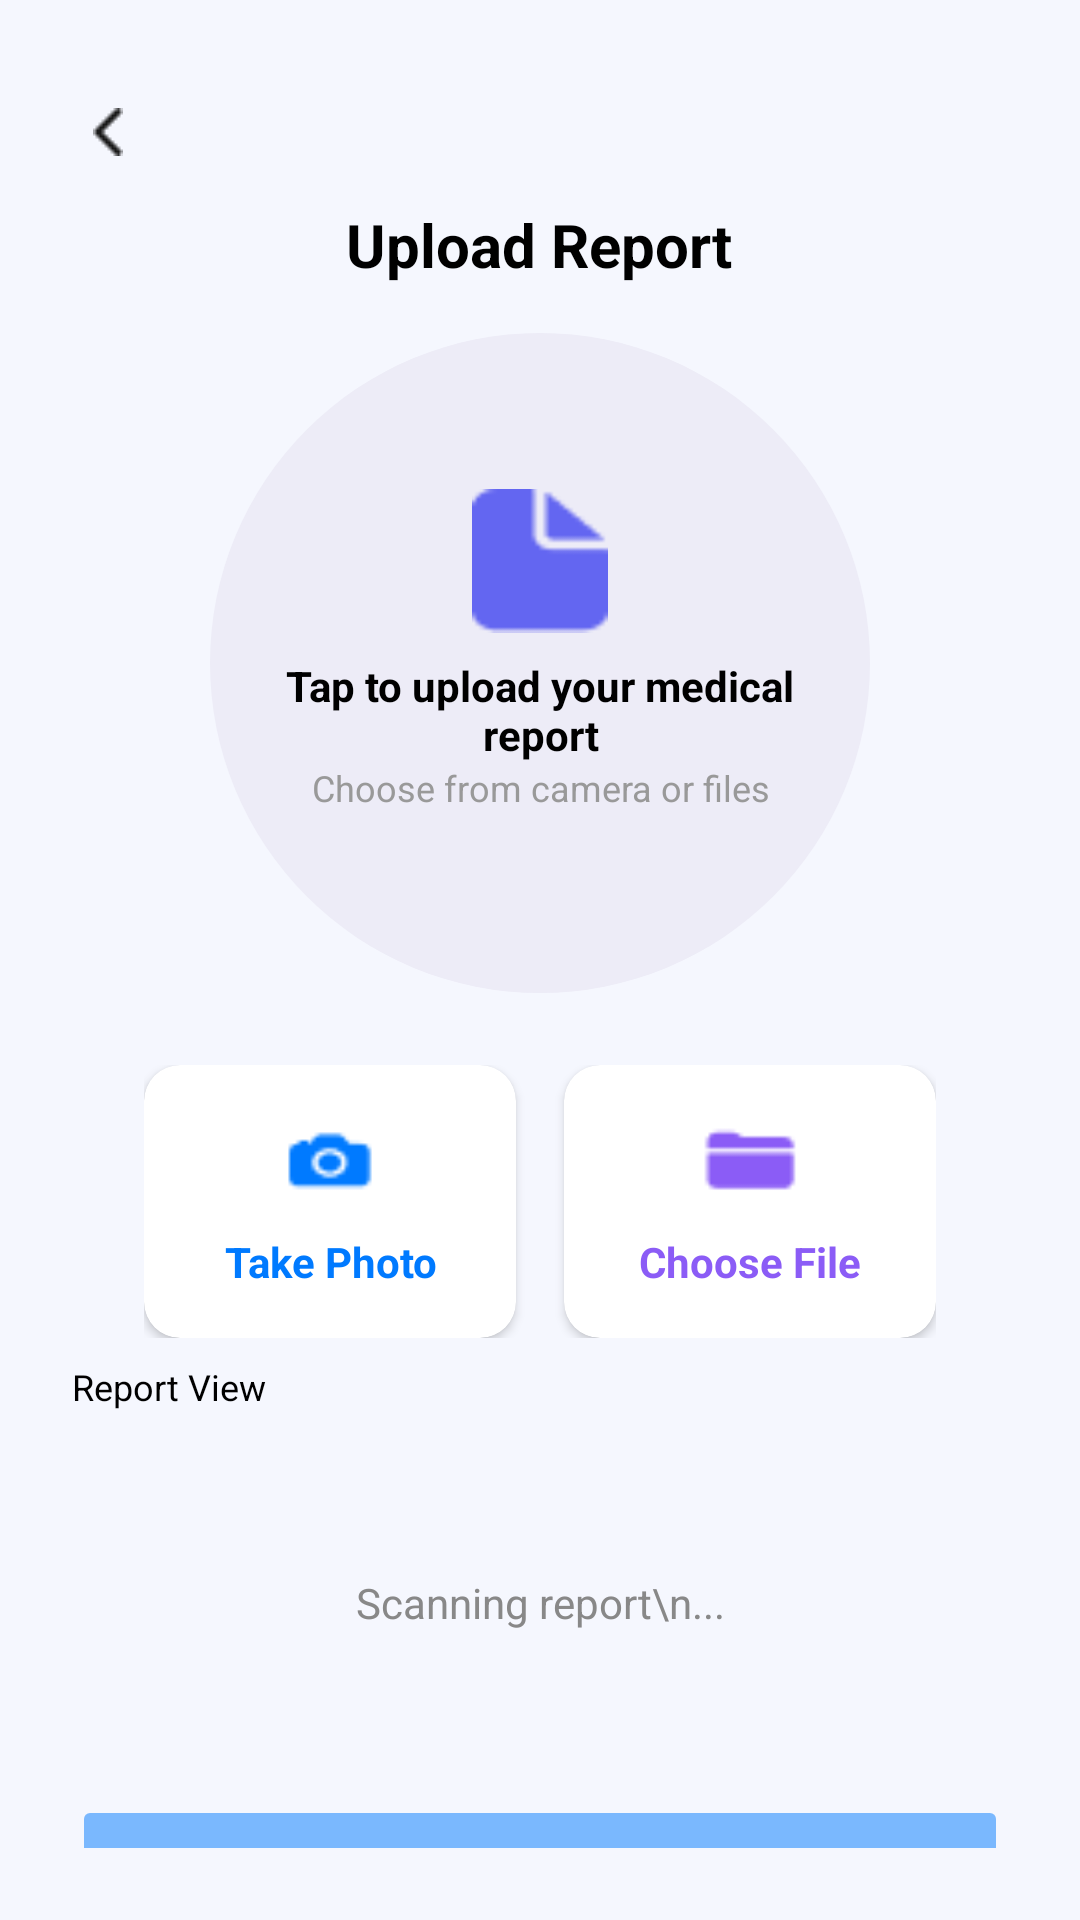

Screen size 1080px×1920px. Icon name, then its center in pixels as (x=x, y=y):
Back: (x=108, y=132)
Camera: (x=330, y=1160)
